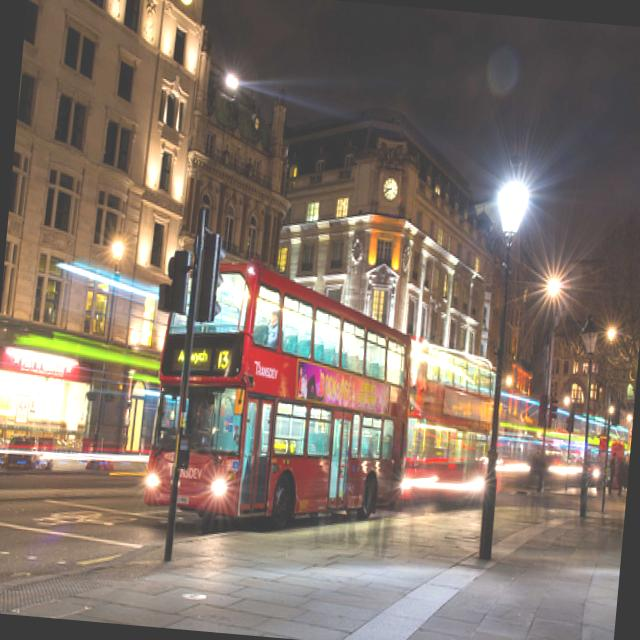Vehicle: (143, 252, 425, 540)
